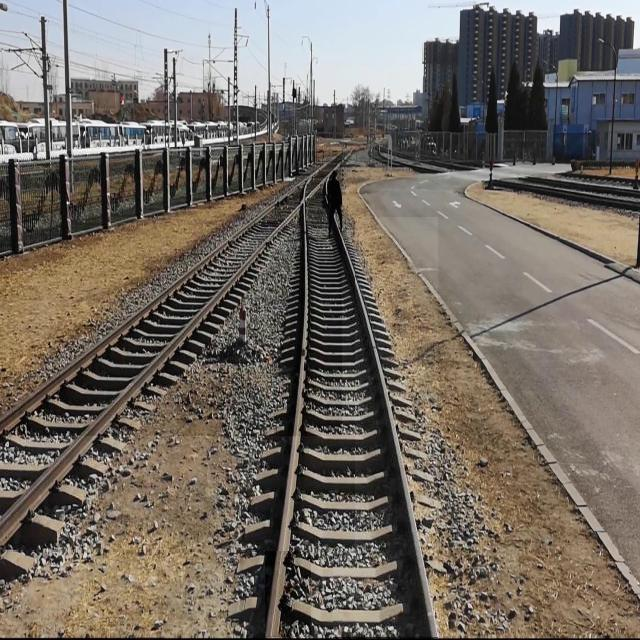rail: (1, 148, 356, 552), (1, 152, 343, 437), (335, 219, 439, 639), (267, 179, 312, 638), (326, 179, 330, 197)
